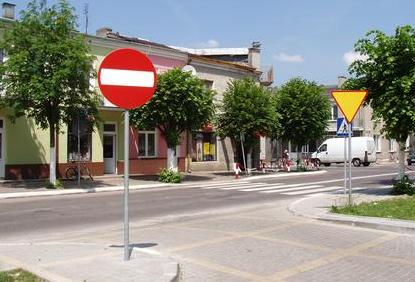No_entry: (96, 47, 159, 110)
